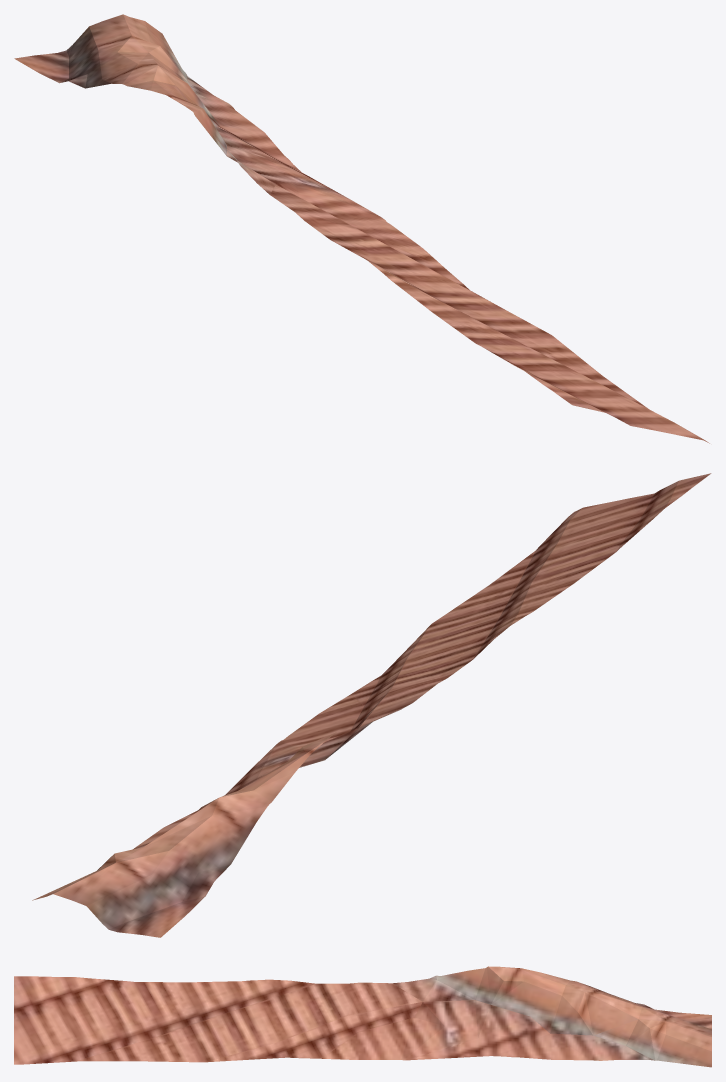
The picture shows the model from 3 angles, top to bottom: view 1: azimuth 30°, elevation 25°; view 2: azimuth 150°, elevation 25°; view 3: azimuth 270°, elevation 25°; orthographic projection. The views are drawn at different scales.
Size of the model in its own units: 0.5144 by 0.2951 by 3.35.
Materials: 1 (1 with a texture image).
